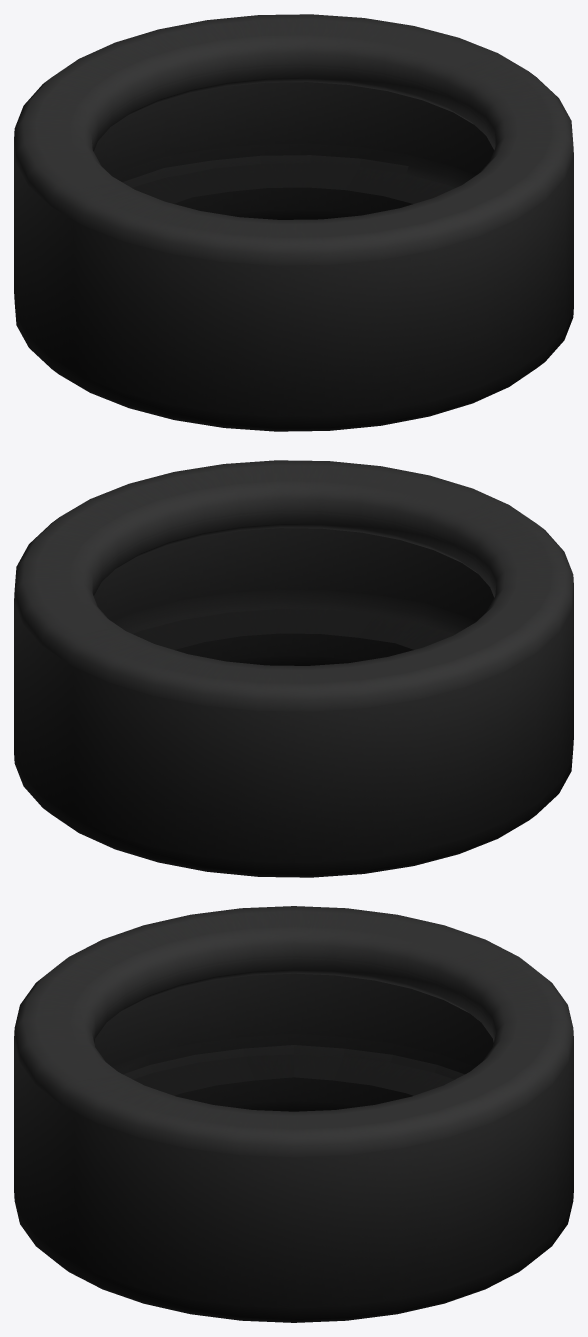
File: Tire.fbx
The picture shows the model from 3 angles, top to bottom: view 1: azimuth 30°, elevation 25°; view 2: azimuth 150°, elevation 25°; view 3: azimuth 270°, elevation 25°; orthographic projection.
Visible parts, largest first — view 1: Cylinder; view 2: Cylinder; view 3: Cylinder.
Boxes of the visible parts, left/top/right/bottom form: Cylinder: left=14, top=14, right=573, bottom=431; Cylinder: left=14, top=460, right=573, bottom=877; Cylinder: left=14, top=906, right=573, bottom=1322.
Bounding box in the file's own units: 200 × 74.22 × 200.
